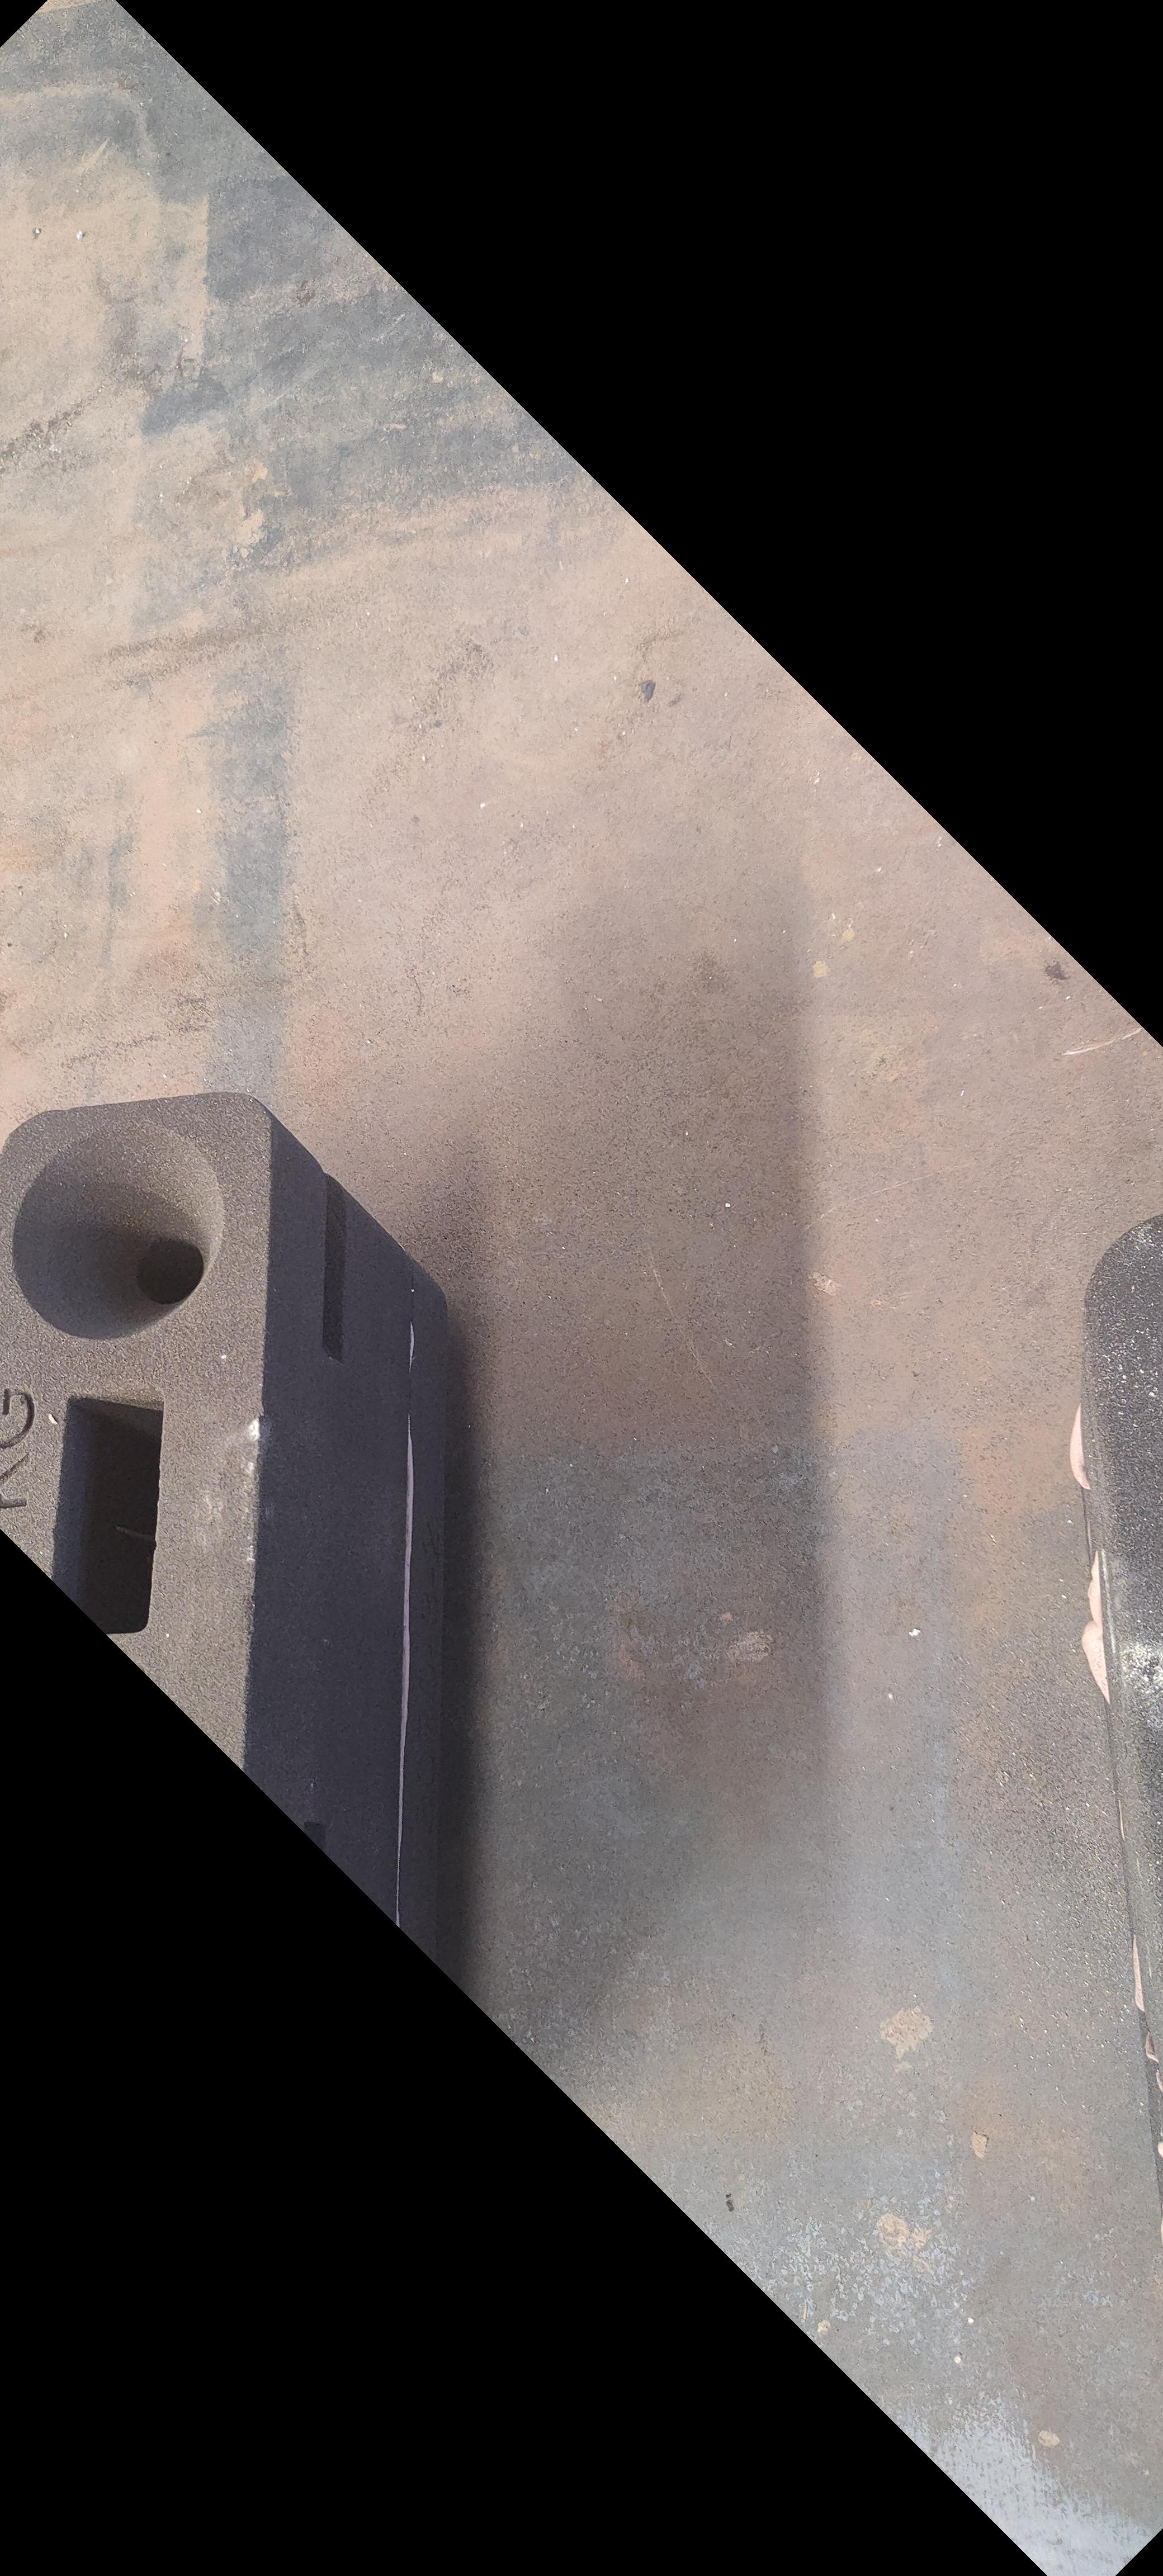pouring hole: (10, 1122, 230, 1344)
